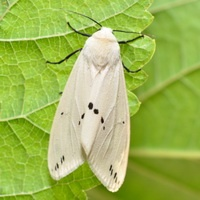insect: (48, 25, 139, 191)
